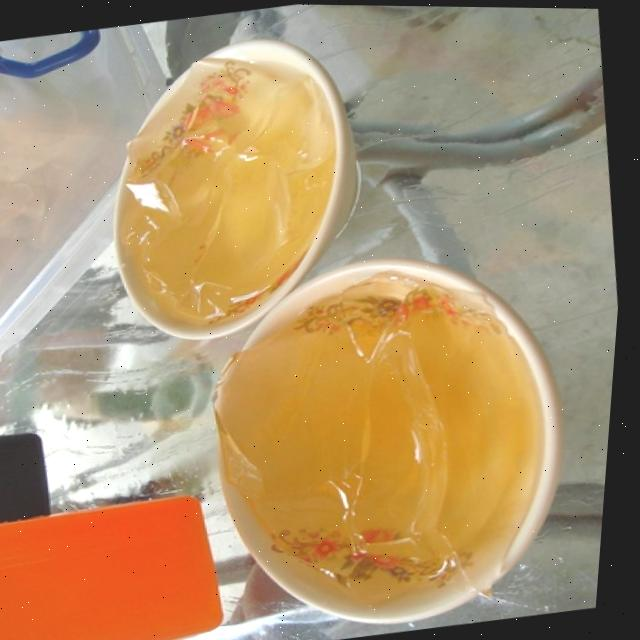蛋糕甜品: (32, 14, 632, 640)
